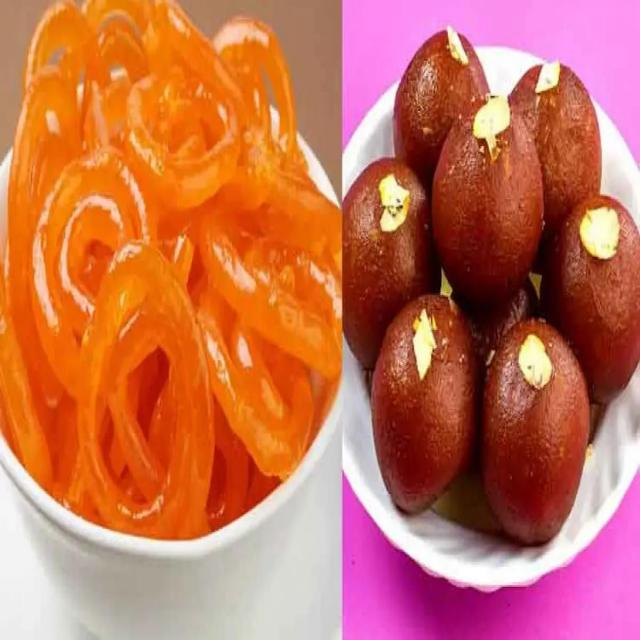jalebi: (5, 0, 343, 541)
